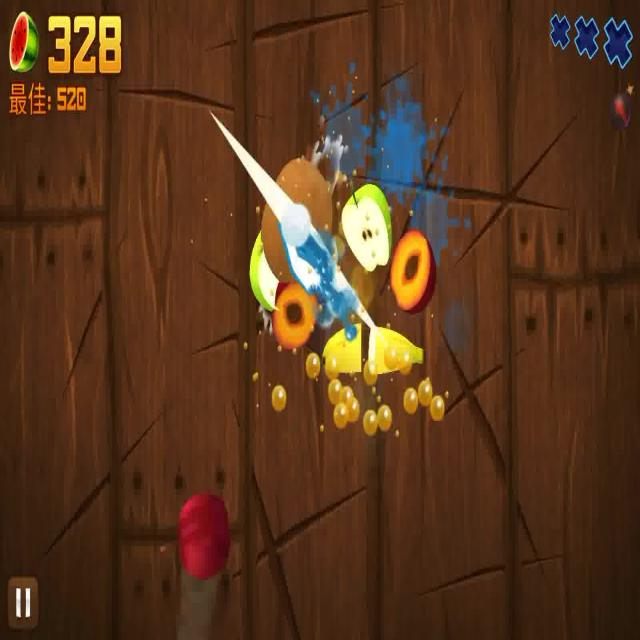fruit: (262, 152, 333, 276), (340, 174, 390, 270), (176, 494, 232, 578), (388, 227, 436, 316), (274, 275, 320, 356), (248, 225, 288, 315), (367, 322, 425, 376), (318, 322, 362, 379)
